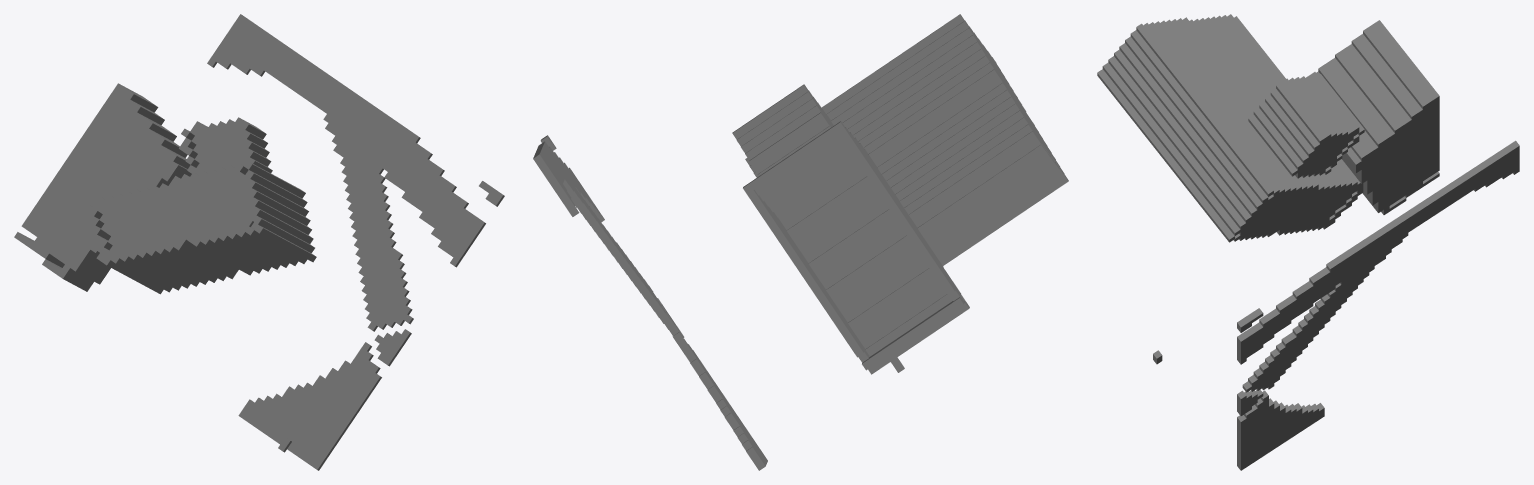
File: tile_0_3.glb
3 renders of one model, left to right at view 1: azimuth 30°, elevation 25°; view 2: azimuth 150°, elevation 25°; view 3: azimuth 270°, elevation 25°, orthographic. The views are drawn at different scales.
Visible parts, largest first — view 1: universal_minecraft:concrete:up, universal_minecraft:terracotta:up, universal_minecraft:concrete:north, universal_minecraft:stained_terracotta:up, universal_minecraft:stone_bricks:north, universal_minecraft:stone_bricks:up, universal_minecraft:concrete:west, universal_minecraft:stone_bricks:west; view 2: universal_minecraft:concrete:south, universal_minecraft:stone_bricks:south, universal_minecraft:concrete:up, universal_minecraft:concrete:west, universal_minecraft:grass_block:south, universal_minecraft:terracotta:south, universal_minecraft:stone_bricks:west, universal_minecraft:terracotta:up, universal_minecraft:grass_block:up, universal_minecraft:stained_terracotta:up; view 3: universal_minecraft:concrete:west, universal_minecraft:stone_bricks:west, universal_minecraft:concrete:down, universal_minecraft:grass_block:down, universal_minecraft:concrete:north, universal_minecraft:stone_bricks:north, universal_minecraft:stone_bricks:down.
Boxes of the visible parts, bbox=[...] form: universal_minecraft:concrete:up: bbox=[83, 14, 502, 469]; universal_minecraft:terracotta:up: bbox=[21, 89, 245, 263]; universal_minecraft:concrete:north: bbox=[94, 62, 504, 470]; universal_minecraft:stained_terracotta:up: bbox=[98, 172, 256, 254]; universal_minecraft:stone_bricks:north: bbox=[46, 94, 291, 452]; universal_minecraft:stone_bricks:up: bbox=[14, 83, 290, 451]; universal_minecraft:concrete:west: bbox=[88, 15, 502, 402]; universal_minecraft:stone_bricks:west: bbox=[20, 84, 290, 440]; universal_minecraft:concrete:south: bbox=[533, 14, 1068, 470]; universal_minecraft:stone_bricks:south: bbox=[732, 85, 968, 374]; universal_minecraft:concrete:up: bbox=[539, 14, 1068, 466]; universal_minecraft:concrete:west: bbox=[533, 14, 1055, 450]; universal_minecraft:grass_block:south: bbox=[747, 190, 868, 362]; universal_minecraft:terracotta:south: bbox=[830, 126, 959, 300]; universal_minecraft:stone_bricks:west: bbox=[732, 84, 964, 363]; universal_minecraft:terracotta:up: bbox=[808, 91, 960, 296]; universal_minecraft:grass_block:up: bbox=[753, 190, 869, 357]; universal_minecraft:stained_terracotta:up: bbox=[969, 27, 1059, 167]; universal_minecraft:concrete:west: bbox=[1097, 14, 1519, 421]; universal_minecraft:stone_bricks:west: bbox=[1153, 20, 1439, 358]; universal_minecraft:concrete:down: bbox=[1229, 146, 1519, 470]; universal_minecraft:grass_block:down: bbox=[1240, 99, 1439, 234]; universal_minecraft:concrete:north: bbox=[1097, 27, 1514, 470]; universal_minecraft:stone_bricks:north: bbox=[1153, 31, 1422, 364]; universal_minecraft:stone_bricks:down: bbox=[1157, 96, 1439, 364].
Size of the model in its own units: 74.25 by 62.22 by 61.55.
Materials: 28 (28 with a texture image).
